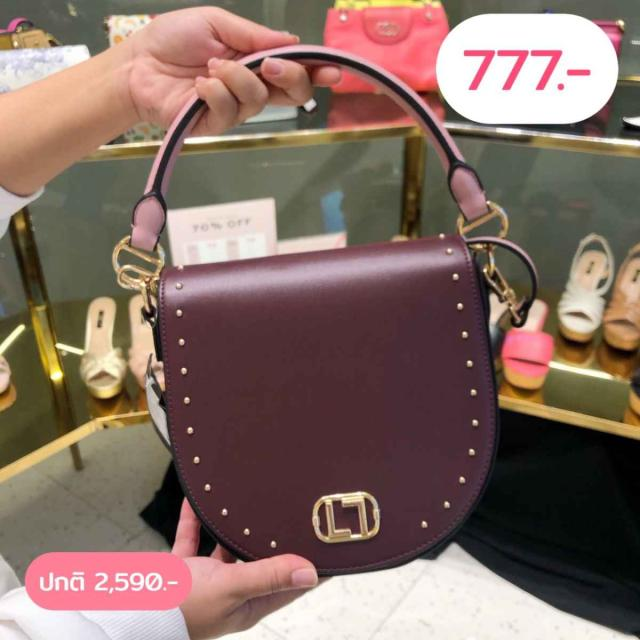handbag: (126, 172, 500, 622)
